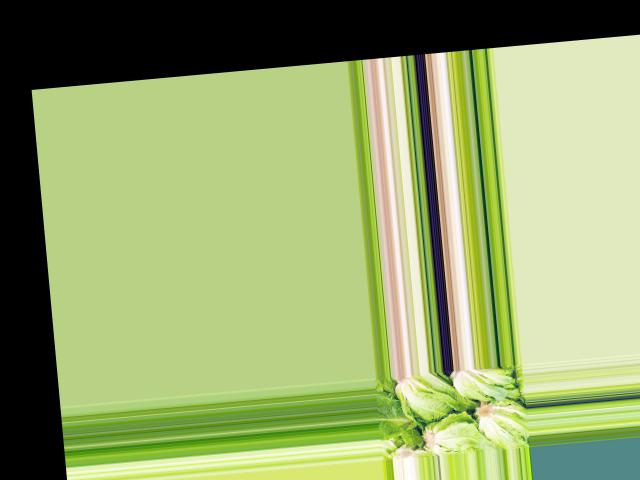lettuce: (376, 403, 414, 440)
